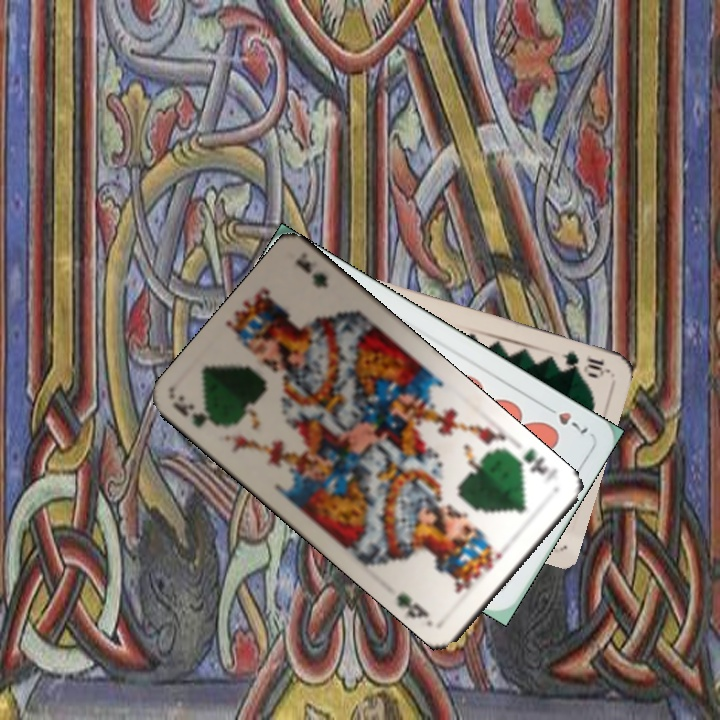G10: (557, 347, 610, 380)
GK: (508, 444, 561, 487), (169, 398, 224, 430)
H7: (539, 400, 591, 439)
